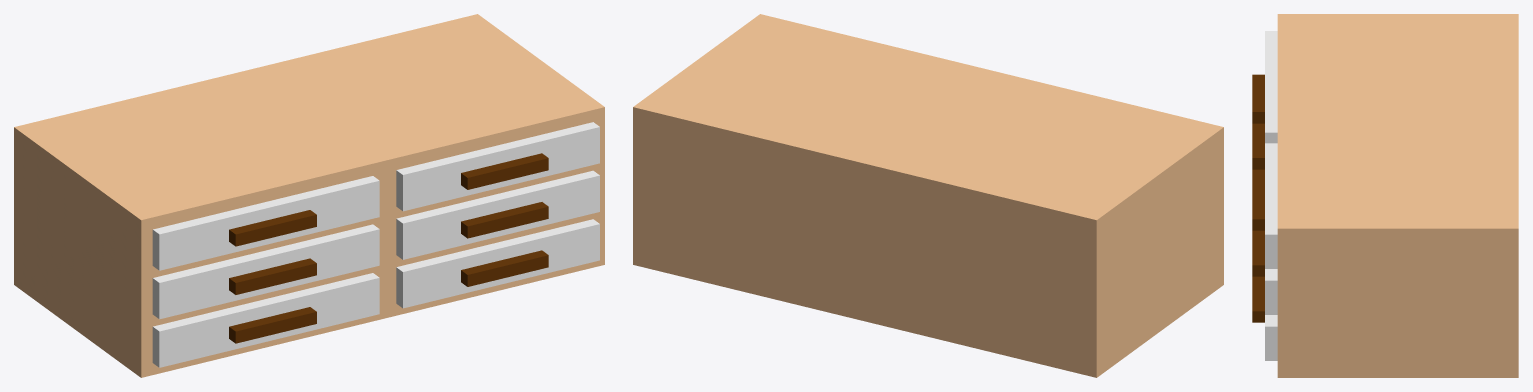
File: drawer.obj
The picture shows the model from 3 angles, left to right: view 1: azimuth 30°, elevation 25°; view 2: azimuth 150°, elevation 25°; view 3: azimuth 270°, elevation 25°; orthographic projection. The views are drawn at different scales.
Bounding box in the file's own units: 4 × 1.3 × 2.1.
Materials: 1 (1 with a texture image).
